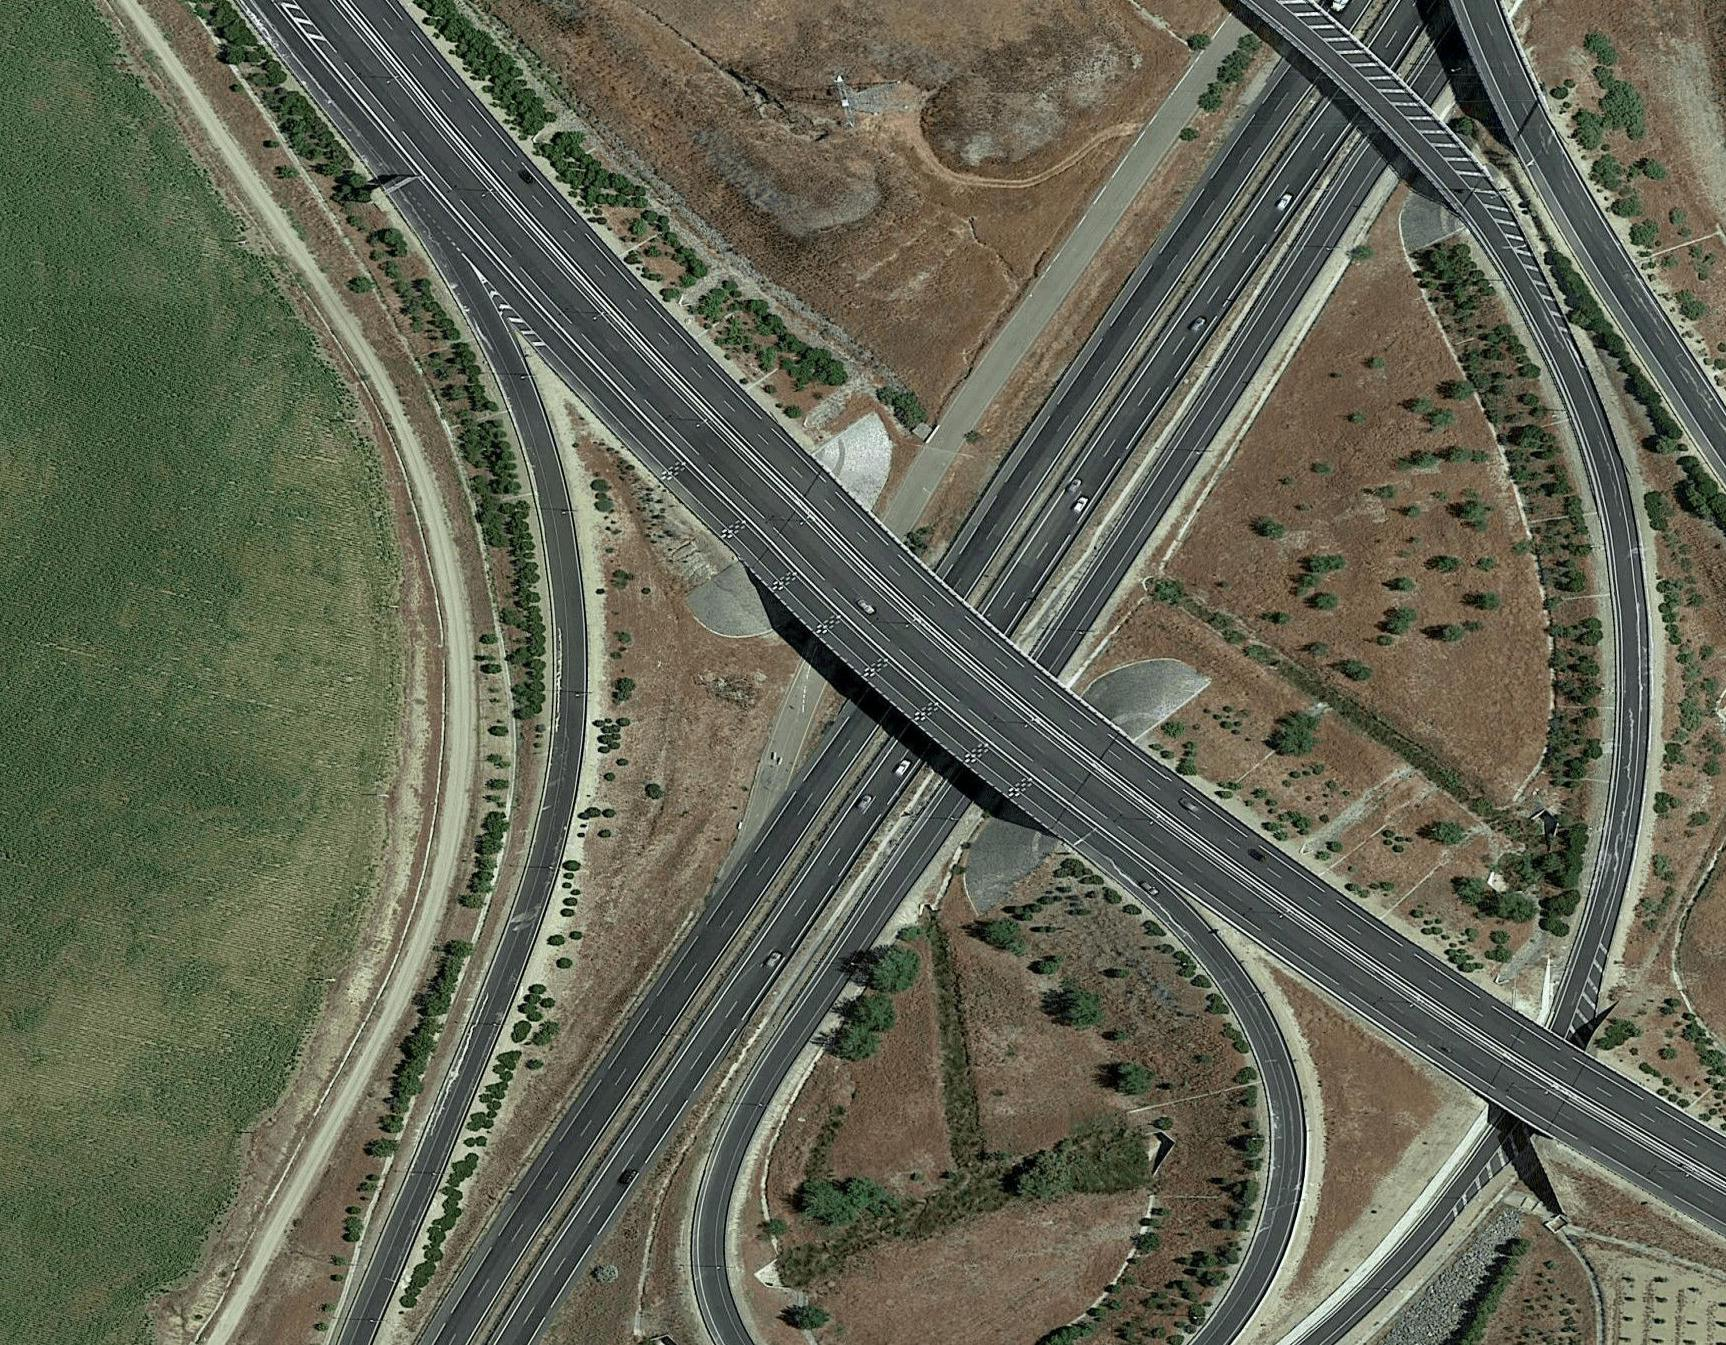bridge: (794, 527, 1152, 820), (1208, 1, 1457, 221), (1454, 1, 1577, 142), (1472, 1027, 1599, 1145)
small-vehicle: (616, 1166, 642, 1194), (764, 947, 785, 970), (891, 757, 911, 779), (1073, 495, 1089, 513)
